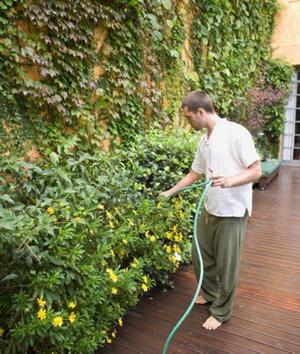person: (157, 91, 262, 331)
